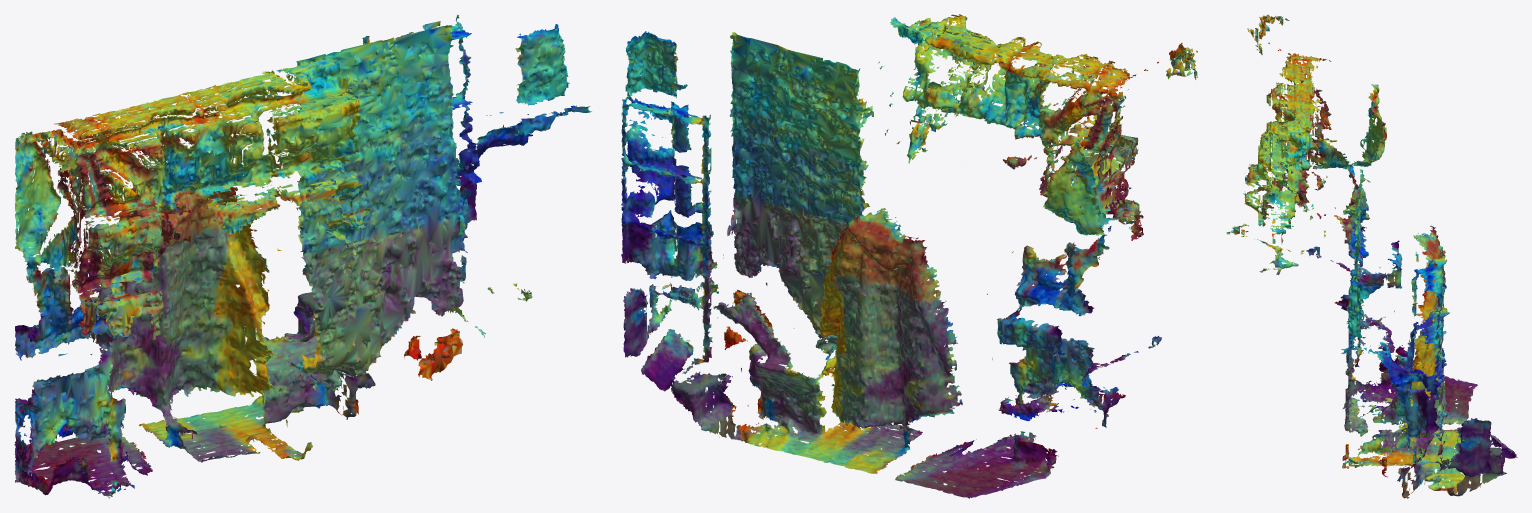
Rendered from mesh_iter_0004.obj.
3 views of the same model, side by side, from view 1: azimuth 30°, elevation 25°; view 2: azimuth 150°, elevation 25°; view 3: azimuth 270°, elevation 25° (orthographic). The views are drawn at different scales.
Bounding box in the file's own units: 3.04 × 2.15 × 1.66.
